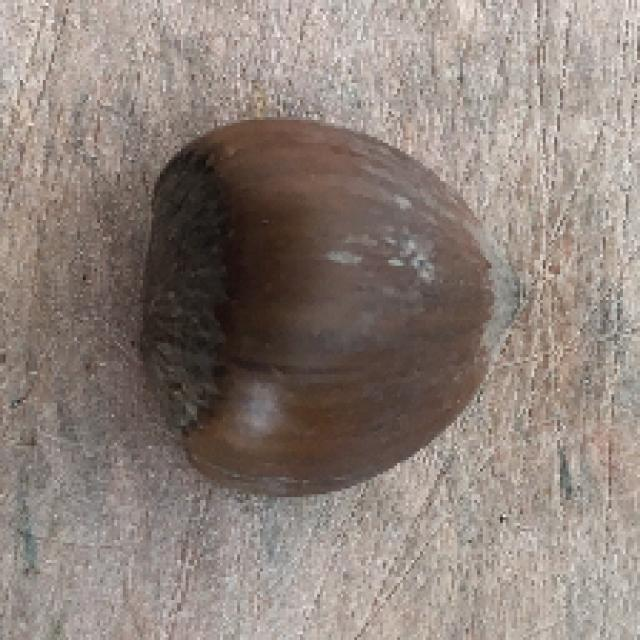damagedHazelnut: (136, 124, 514, 492)
